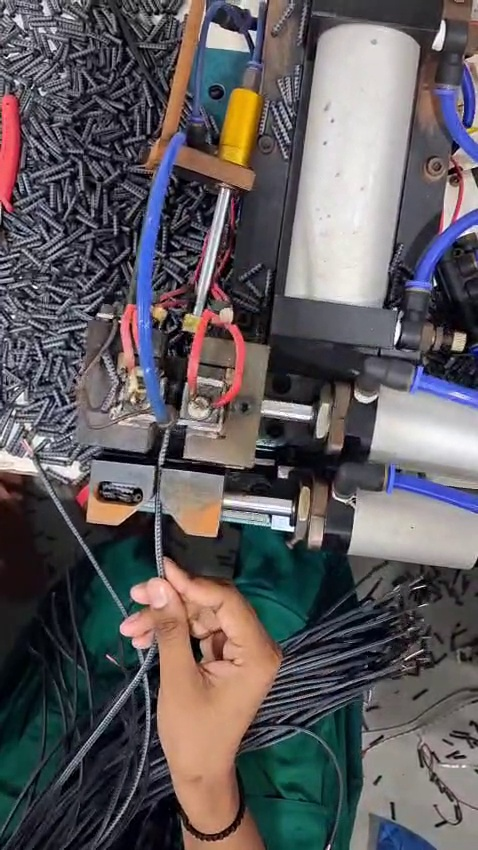intact_wire: (143, 442, 183, 543)
machine: (74, 304, 339, 525)
peeled_wire: (6, 426, 74, 493)
